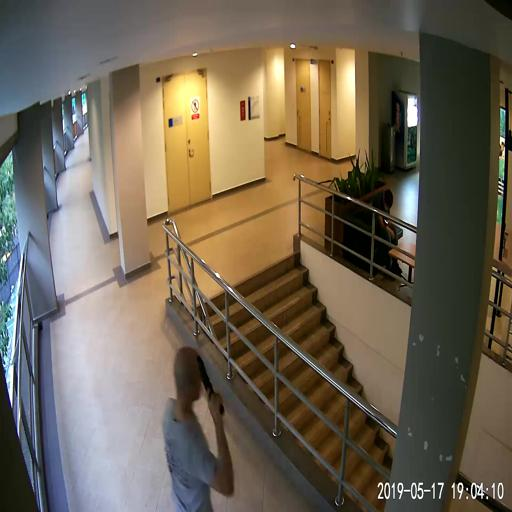pistol: (196, 356, 224, 413)
